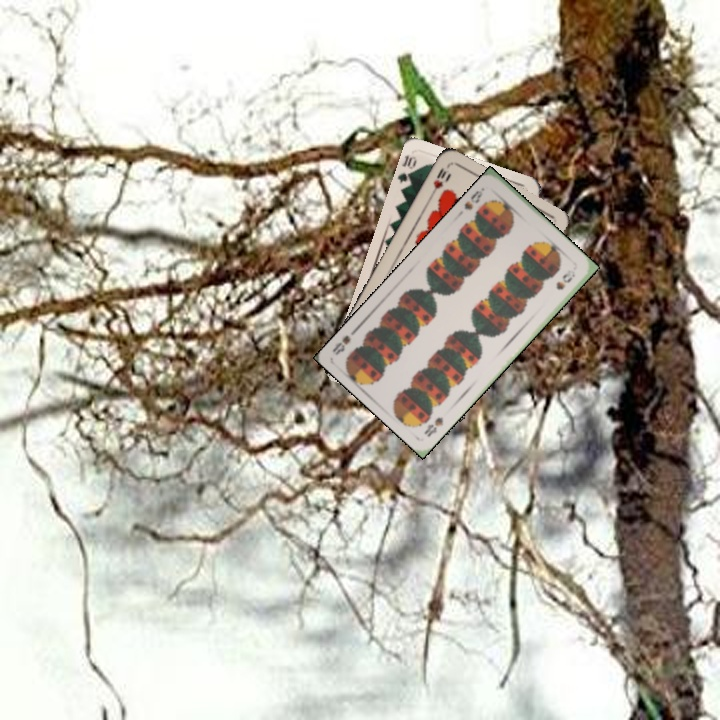G10: (394, 150, 419, 191)
H10: (426, 162, 452, 199)
S8: (460, 183, 487, 213), (420, 413, 446, 440)
